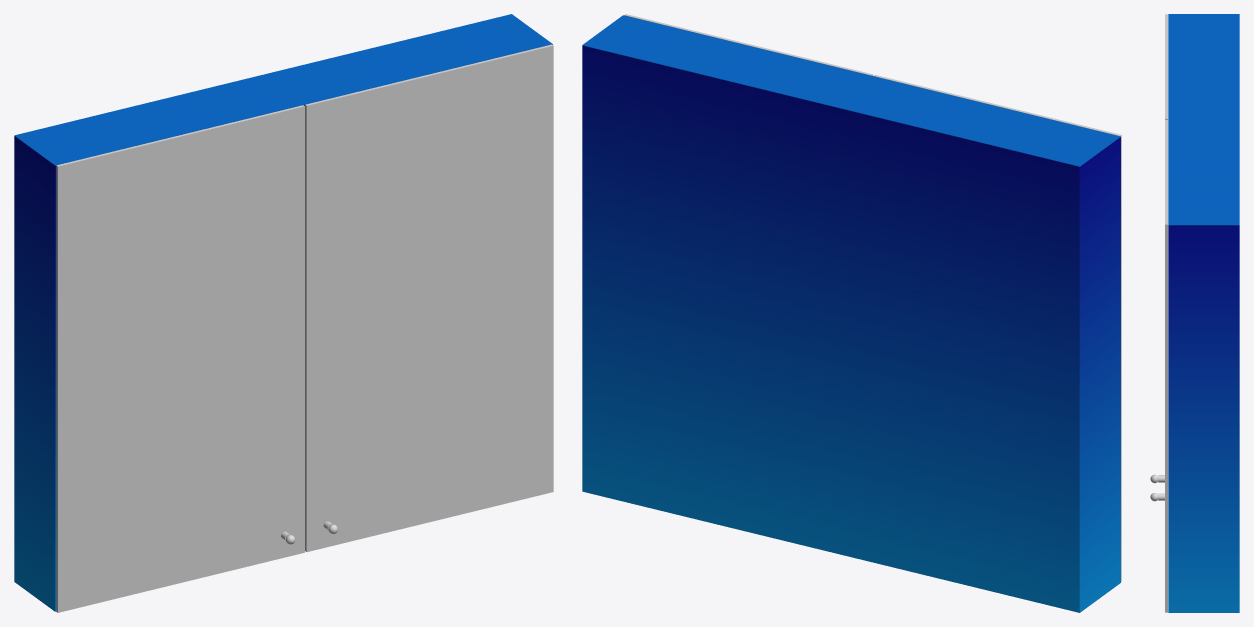
The model's file is sweethome3d-lucapresidente-mirror-9.glb.
The picture shows the model from 3 angles, left to right: view 1: azimuth 30°, elevation 25°; view 2: azimuth 150°, elevation 25°; view 3: azimuth 270°, elevation 25°; orthographic projection. The views are drawn at different scales.
Parts seen in each view (by area): view 1: sweethome3d_window_mirror, sweethome3d_window_mirror_1, Box29_6; view 2: Box29_6, sweethome3d_window_mirror_1; view 3: Box29_6, sweethome3d_window_mirror, sweethome3d_window_mirror_1.
Part boxes in pixels (x1,y1,x2,y2): sweethome3d_window_mirror: (305,44,553,551); sweethome3d_window_mirror_1: (56,105,304,612); Box29_6: (14,14,552,611); Box29_6: (582,15,1120,612); sweethome3d_window_mirror_1: (873,75,1121,581); Box29_6: (1168,14,1239,612); sweethome3d_window_mirror: (1165,120,1167,612); sweethome3d_window_mirror_1: (1165,14,1167,119).
Size of the model in its own units: 70 by 60 by 12.5.
Materials: 2 (1 with a texture image).
